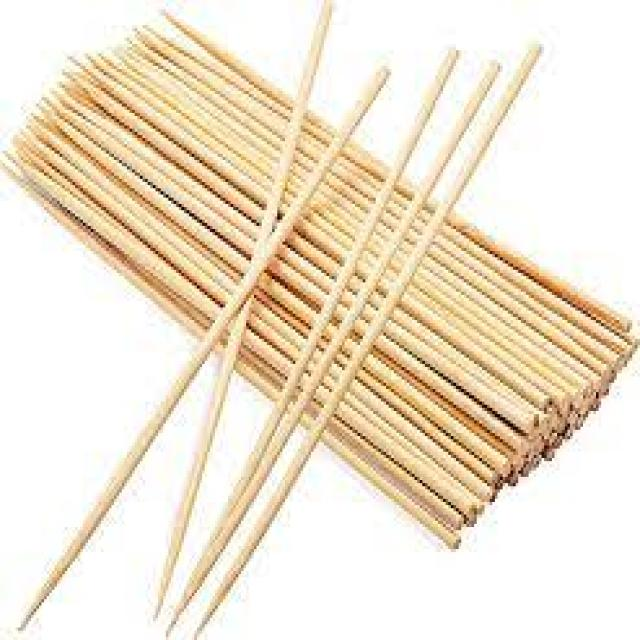stick: (19, 60, 393, 633), (197, 38, 541, 638), (168, 57, 501, 632), (154, 3, 333, 615)
